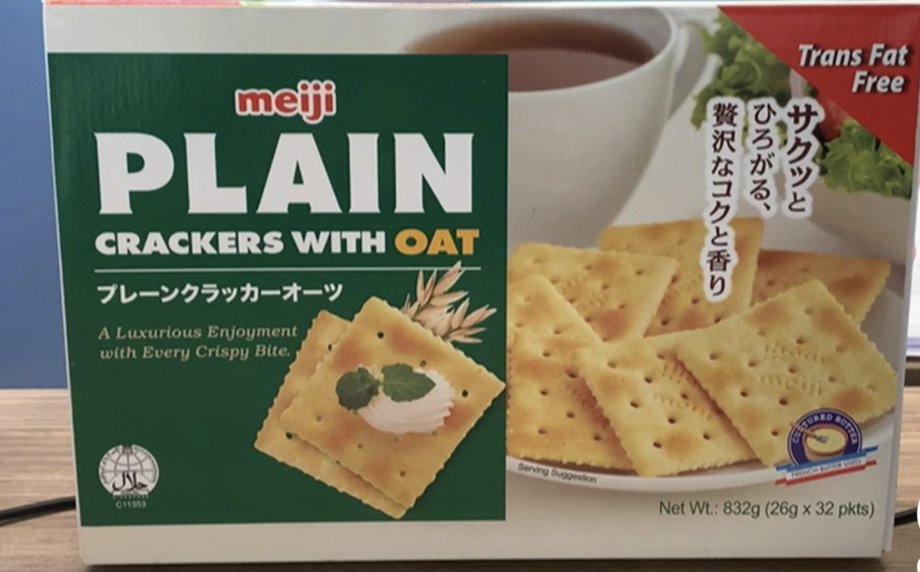crackers_550g: (79, 29, 900, 548)
